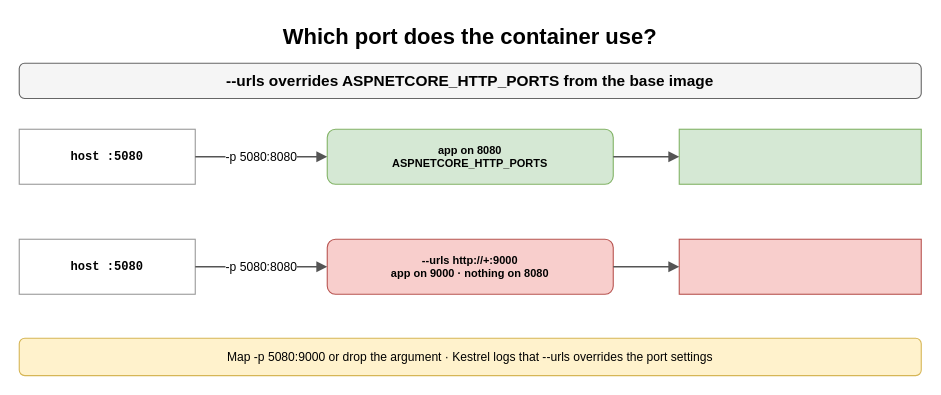
This 941x395 diagram has some shape labels left out. Here are the shapes that lost their labels. From the top down, the box of each, then its label:
(678, 128, 921, 184): works
(678, 238, 921, 294): requests fail
